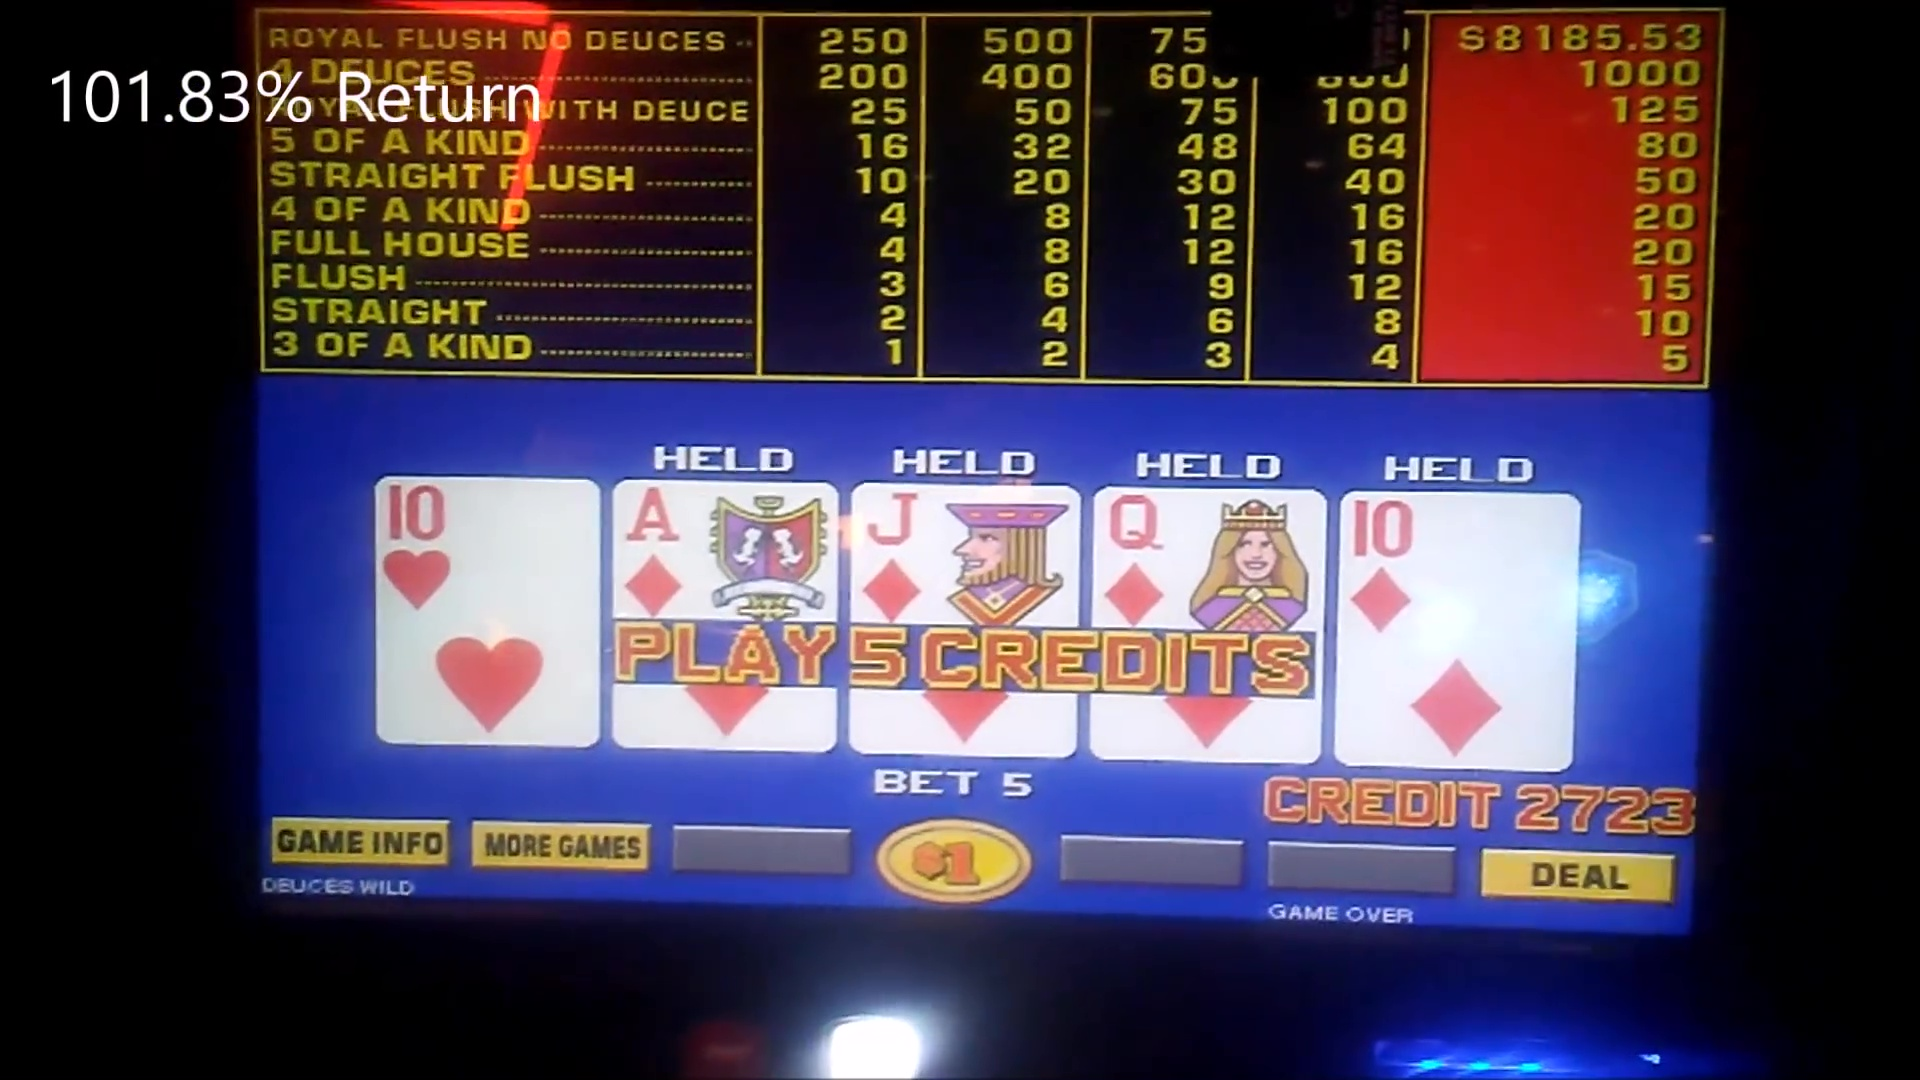AD: (612, 483, 837, 617)
JD: (856, 488, 1076, 620)
QD: (1096, 493, 1324, 621)
TD: (1338, 498, 1578, 634)
TH: (377, 477, 597, 624)
